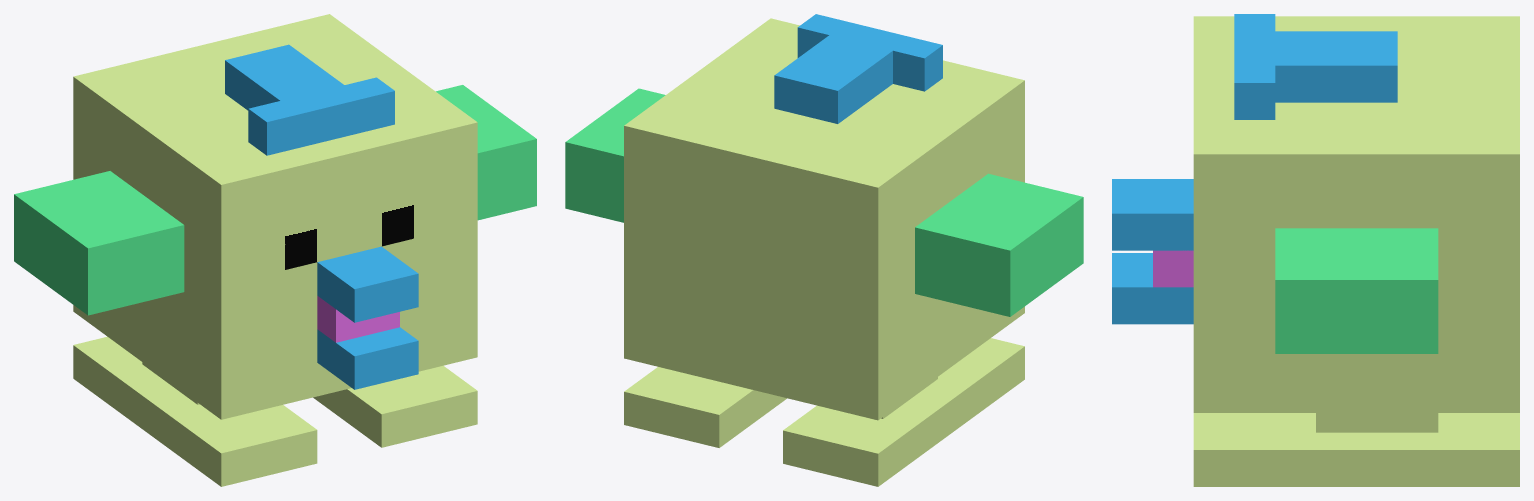
The model's file is GreenBird.fbx.
The picture shows the model from 3 angles, left to right: view 1: azimuth 30°, elevation 25°; view 2: azimuth 150°, elevation 25°; view 3: azimuth 270°, elevation 25°; orthographic projection. The views are drawn at different scales.
Parts seen in each view (by area): view 1: Main, RightWing, LeftWing; view 2: Main, RightWing, LeftWing; view 3: Main, LeftWing.
Part boxes in pixels (<box>): Main: <box>73,14,477,486</box>; RightWing: <box>14,171,184,315</box>; LeftWing: <box>436,85,536,220</box>; Main: <box>624,14,1024,486</box>; RightWing: <box>915,173,1083,316</box>; LeftWing: <box>565,88,665,222</box>; Main: <box>1112,14,1519,486</box>; LeftWing: <box>1275,228,1438,353</box>.
Size of the model in its own units: 14 by 10 by 10.
1 material, 1 textured.
